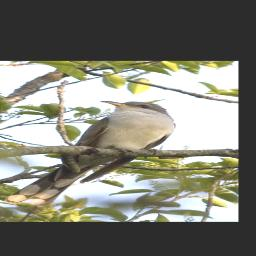Cuckoo: (4, 101, 176, 206)
